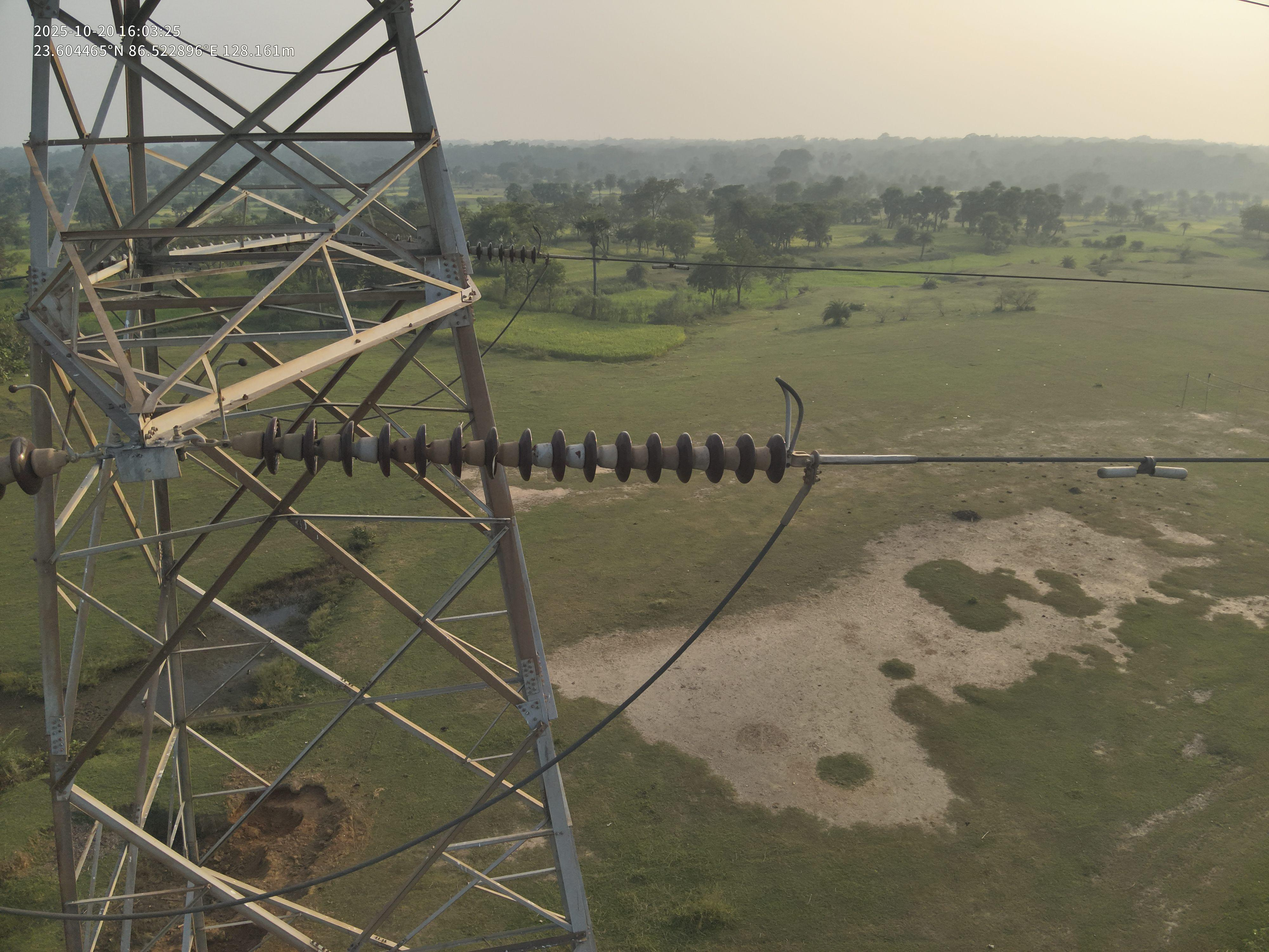broken_insulator: (480, 423, 505, 482)
